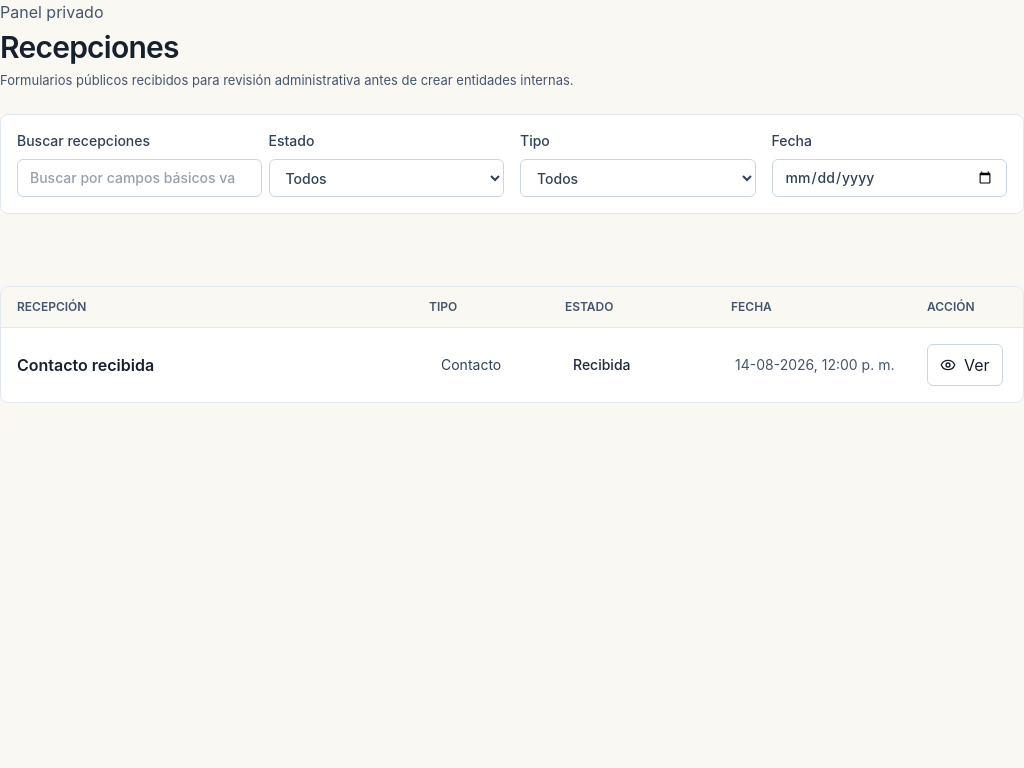
AdminFormSubmissions › shows Spanish labels and translated values in the final entity step
What coordinates should you click on to do the following:
click the button "Ver"
I would click on:
 (965, 365)
Its box is [927,344,1003,386].
(page scrolled)
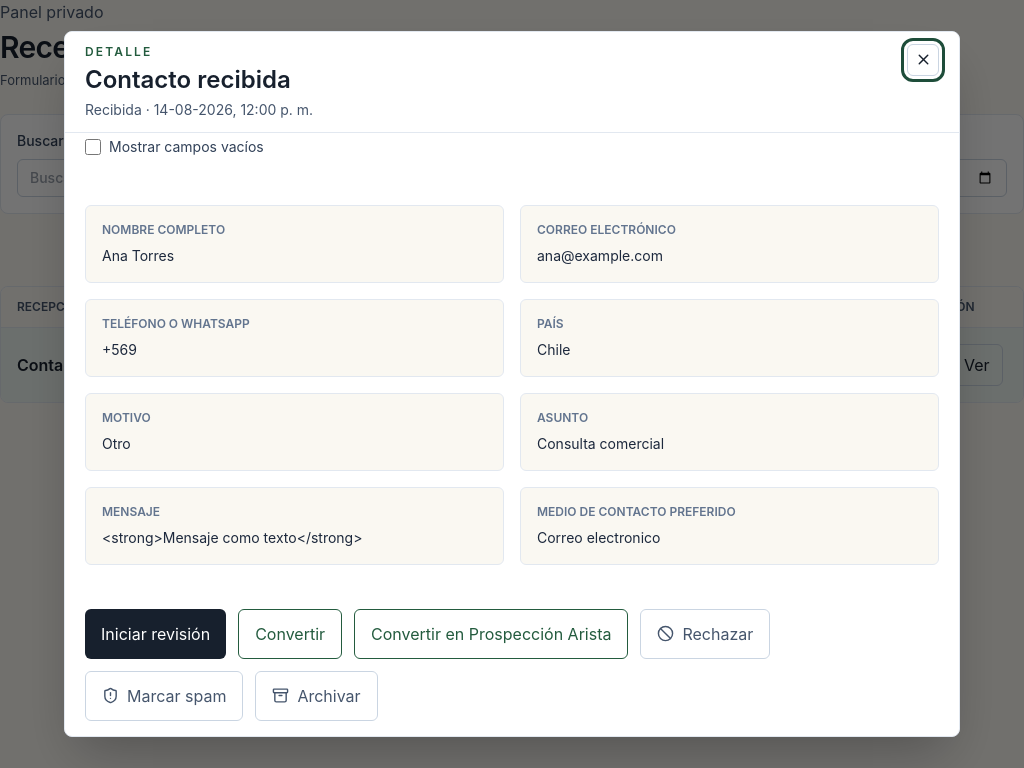
What coordinates should you click on to do the following:
click the button "Convertir"
I would click on:
 (290, 634)
Its box is [238,609,342,659].
(page scrolled)
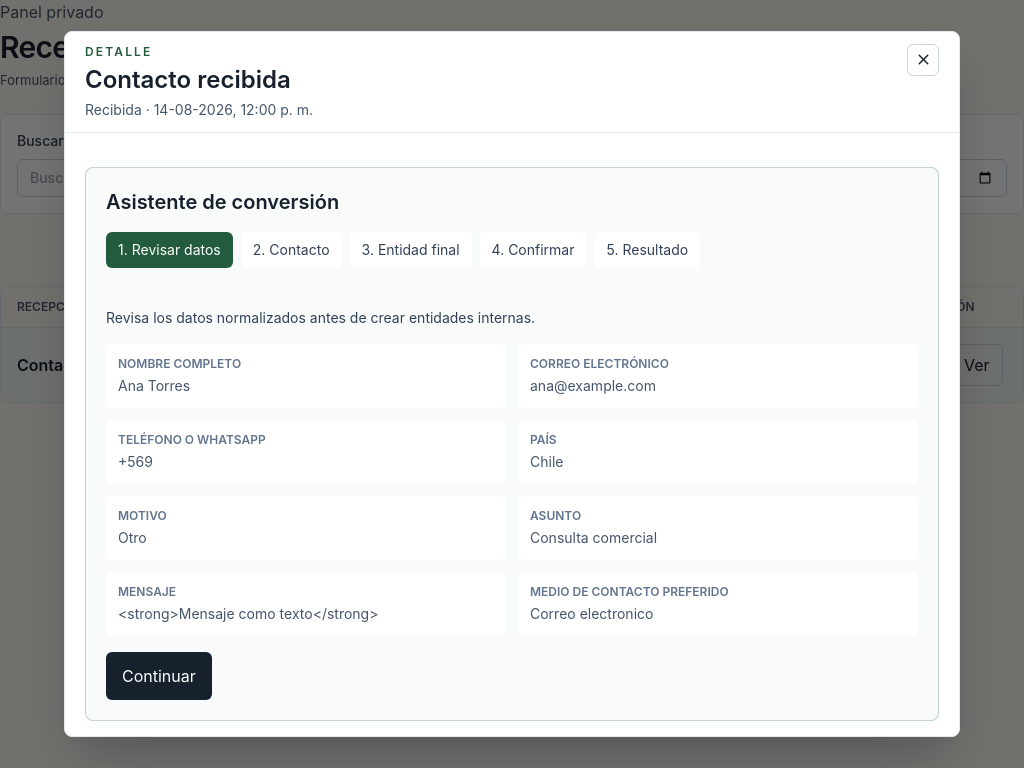
What coordinates should you click on to do the following:
click the button "Continuar"
I would click on:
 (159, 676)
Its box is [106,652,212,700].
(page scrolled)
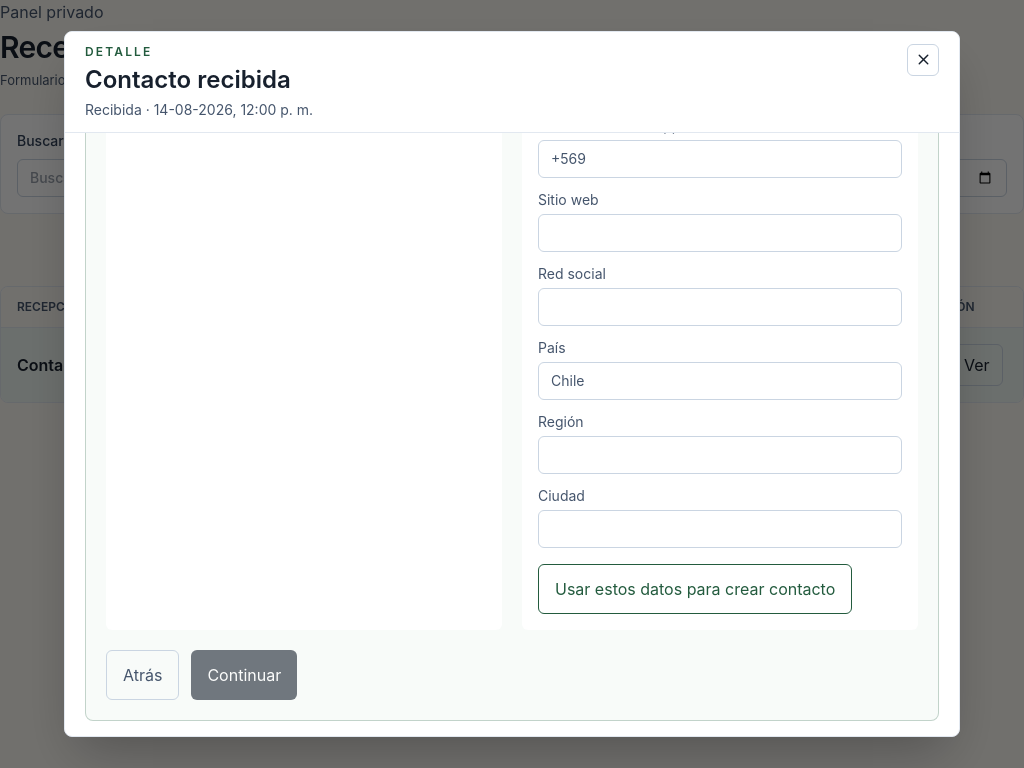
What coordinates should you click on to do the following:
click the button "Usar estos datos para crear contacto"
I would click on:
 (695, 589)
Its box is [538,564,852,614].
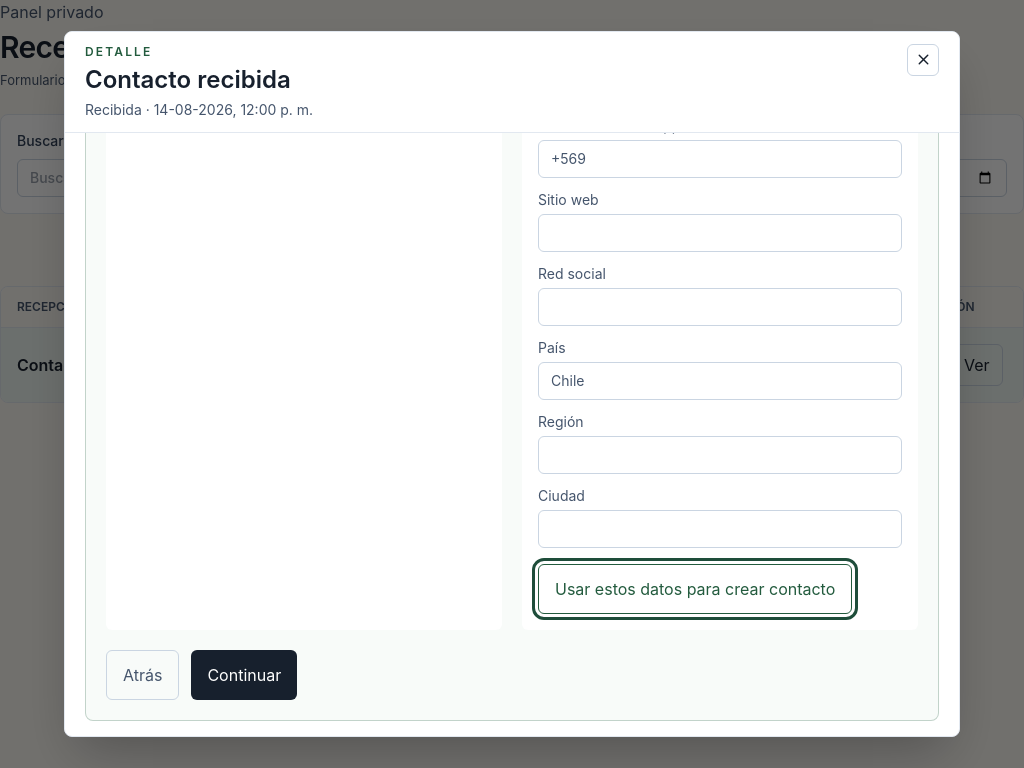
What coordinates should you click on to do the following:
click the button "Continuar"
I would click on:
 (244, 675)
Its box is [191,650,297,700].
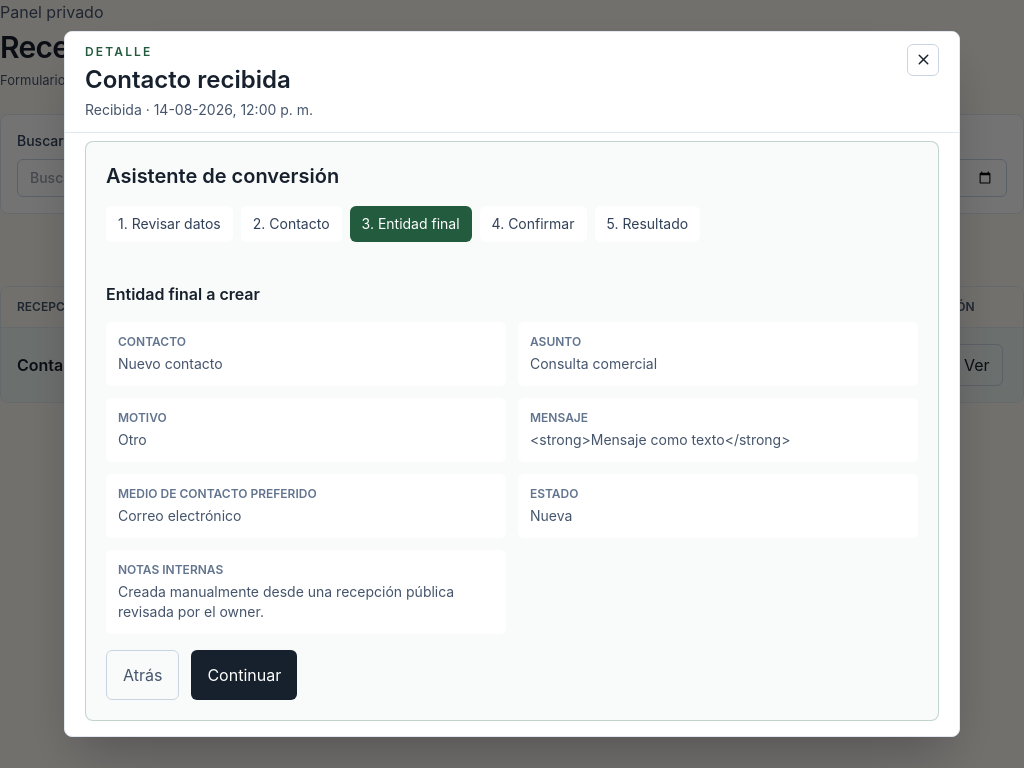
Expected: the text "Estado" is shown, [268,131,504,197]
Expected: the text "Nuevo contacto" is shown, [118,355,223,372]
Expected: the text "Nueva" is shown, [530,507,572,524]
